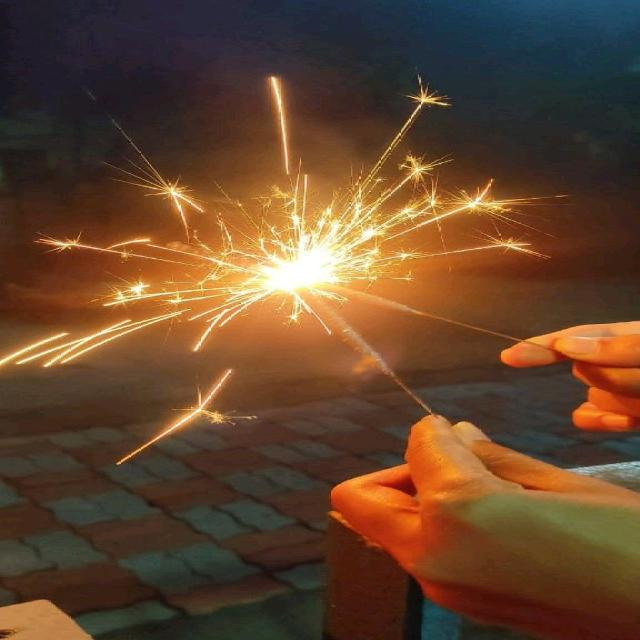fire: (252, 244, 348, 293)
